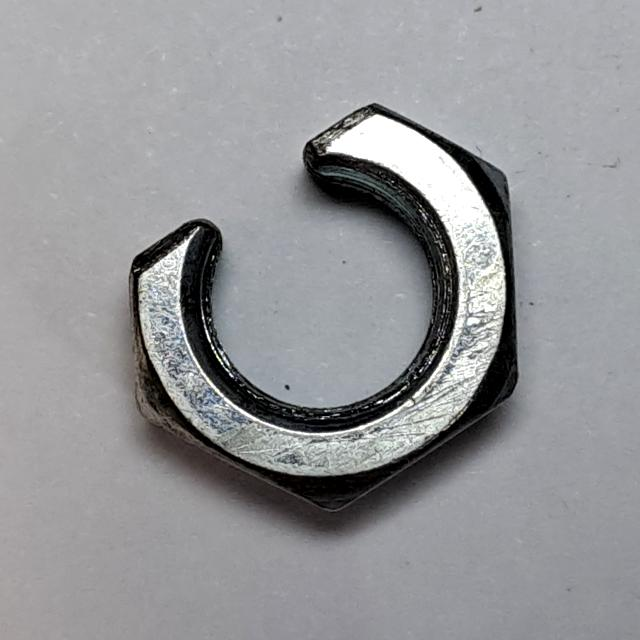Fracture: (115, 85, 531, 531)
